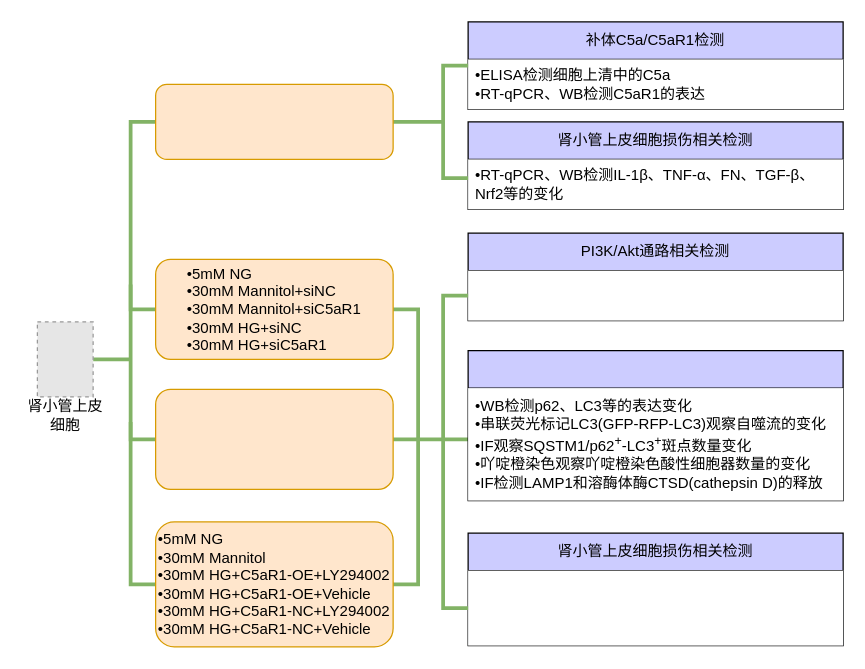
Image size: 865x669. Some labels were removed from this diagram. Grey dashed boxes stand in for pictures. Here are the shapes that lost their labels. From the top down, the box of each, then its label:
(154, 83, 393, 159): •5mM NG •30mM Mannitol •30mM HG
(468, 270, 842, 320): •RT-qPCR、WB检测PI3K、p-PI3K、Akt、p-Akt等的变化
(154, 388, 393, 489): •5mM NG •30mM Mannitol+NC •30mM Mannitol+PMX53 •30mM HG+NC •30mM HG+PMX53
(467, 349, 843, 501): 自噬相关检测
(468, 570, 842, 645): •TUNEL染色检测肾小管上皮细胞的凋亡情况 •RT-qPCR、WB检测C-Cas3、IL-1β、TNF-α、FN、TGF-β、Nrf2等的变化
